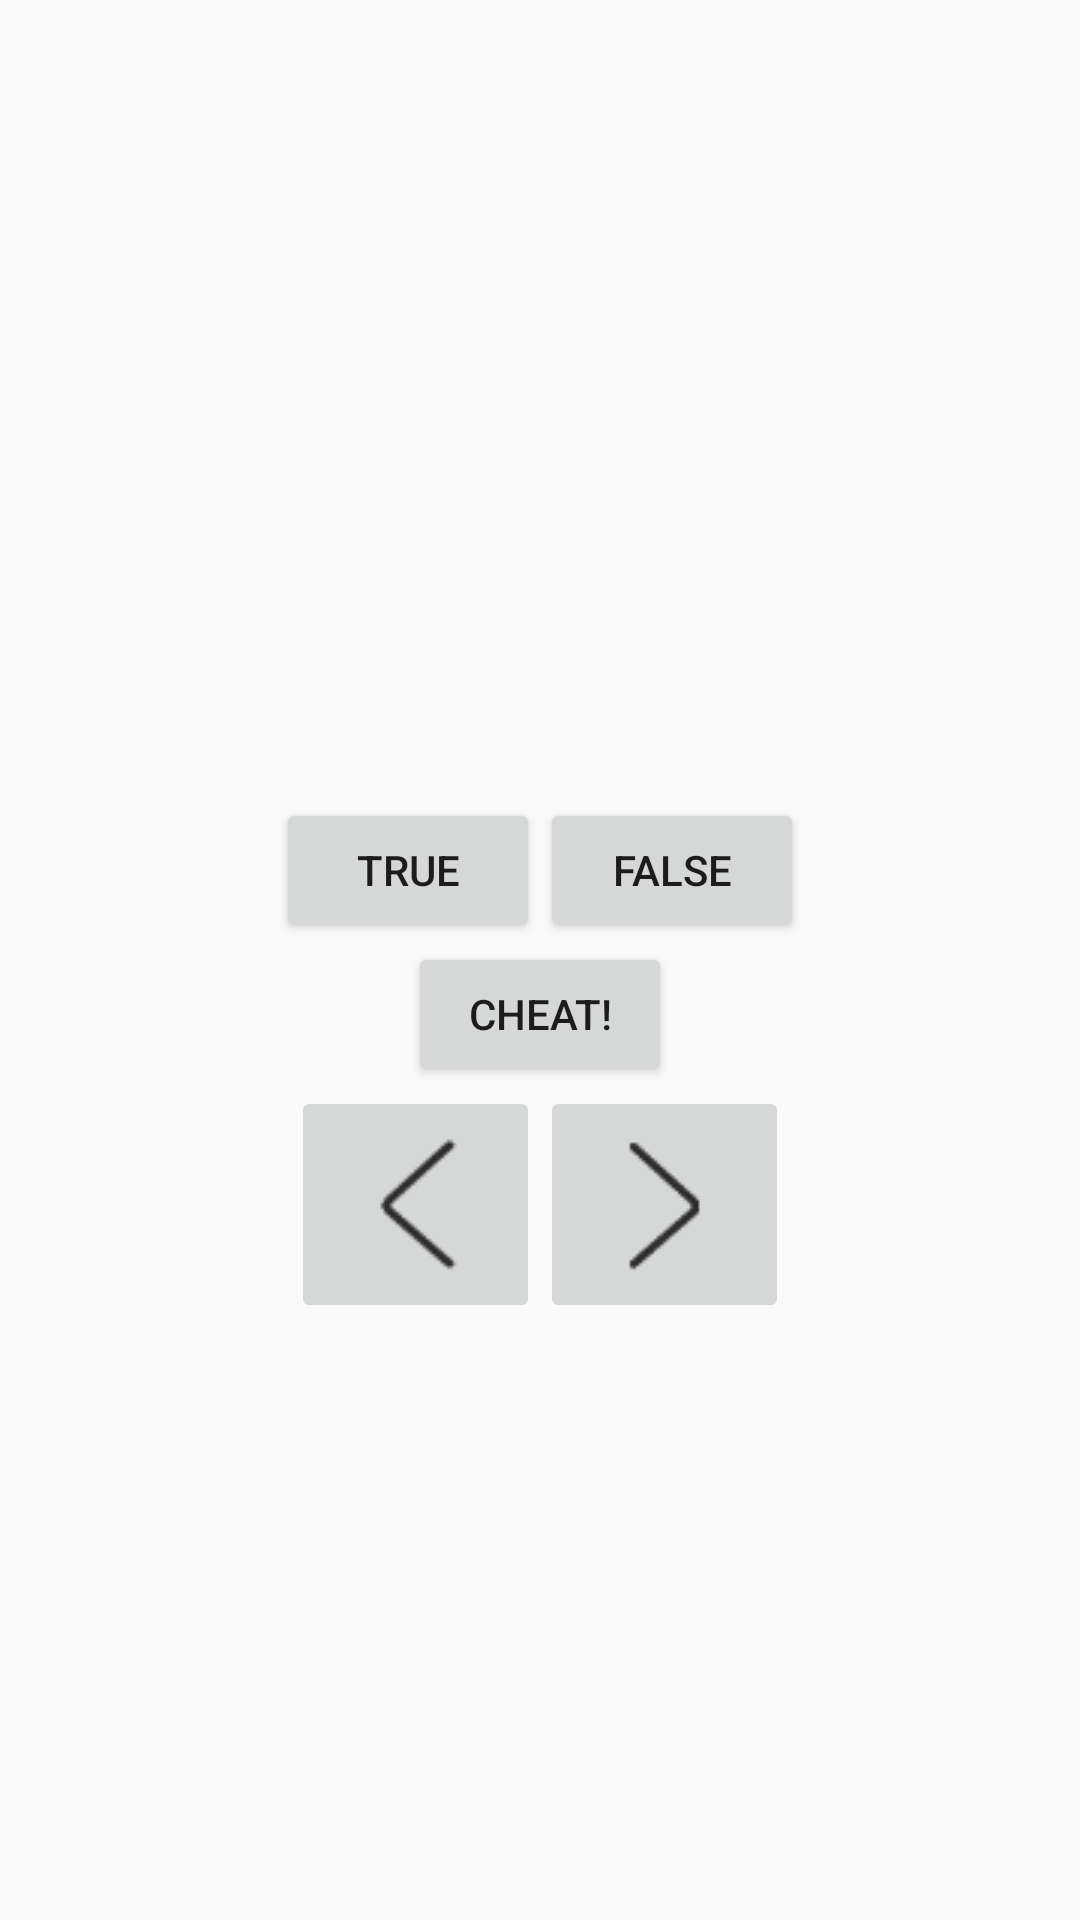

Named icons in this screenshot (1080px x 1920px) and their bounding boxes, detection(x1, y1, x2, y2):
Next: detection(552, 1104, 777, 1305)
Previous: detection(303, 1104, 528, 1305)
